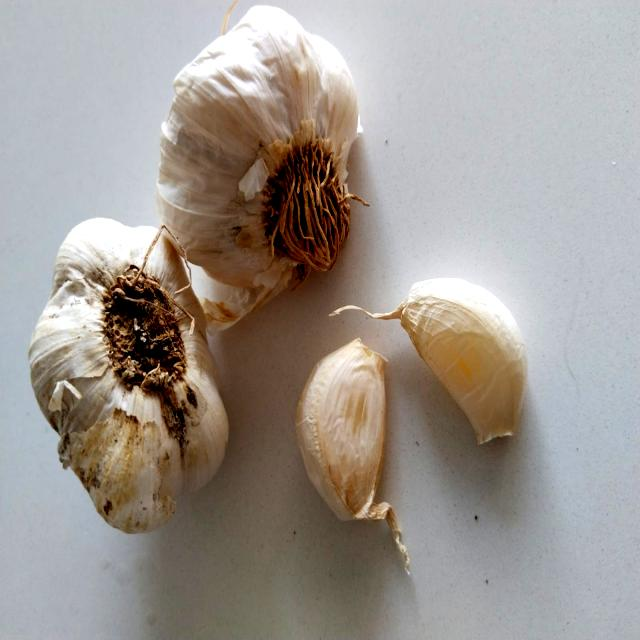garlic: (153, 0, 379, 308), (28, 201, 231, 531), (268, 327, 425, 557), (388, 262, 549, 458)
